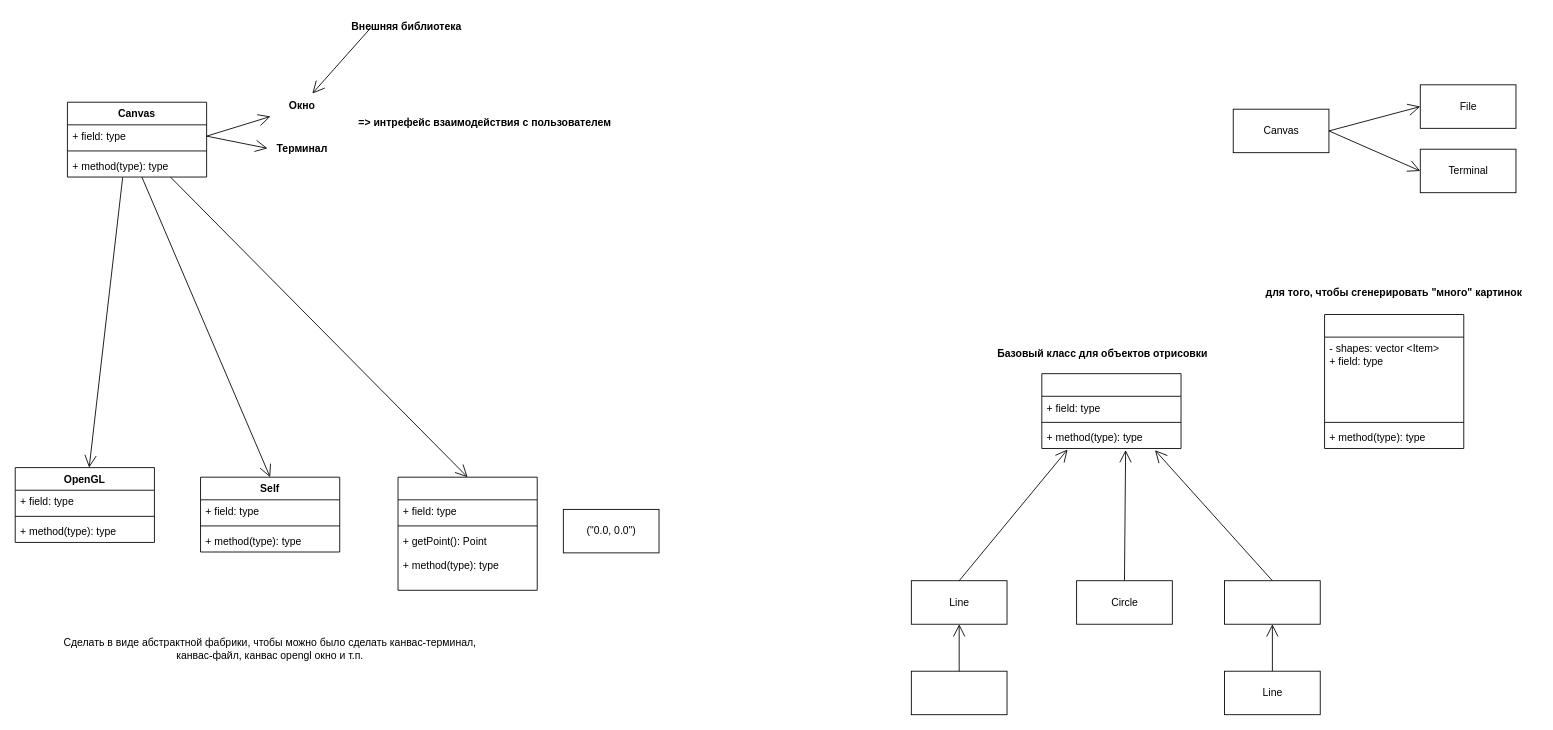
The diagram is 1553 pixels wide and 730 high, and some of its shapes have lost their labels. The box of each missing label's shape, as (x1, y1, x2, y2) in pixels:
Item: (1041, 373, 1181, 448)
Mock: (397, 476, 537, 590)
N-угольник: (1224, 580, 1320, 624)
Picture: (1324, 314, 1464, 448)
Point: (910, 670, 1007, 715)
